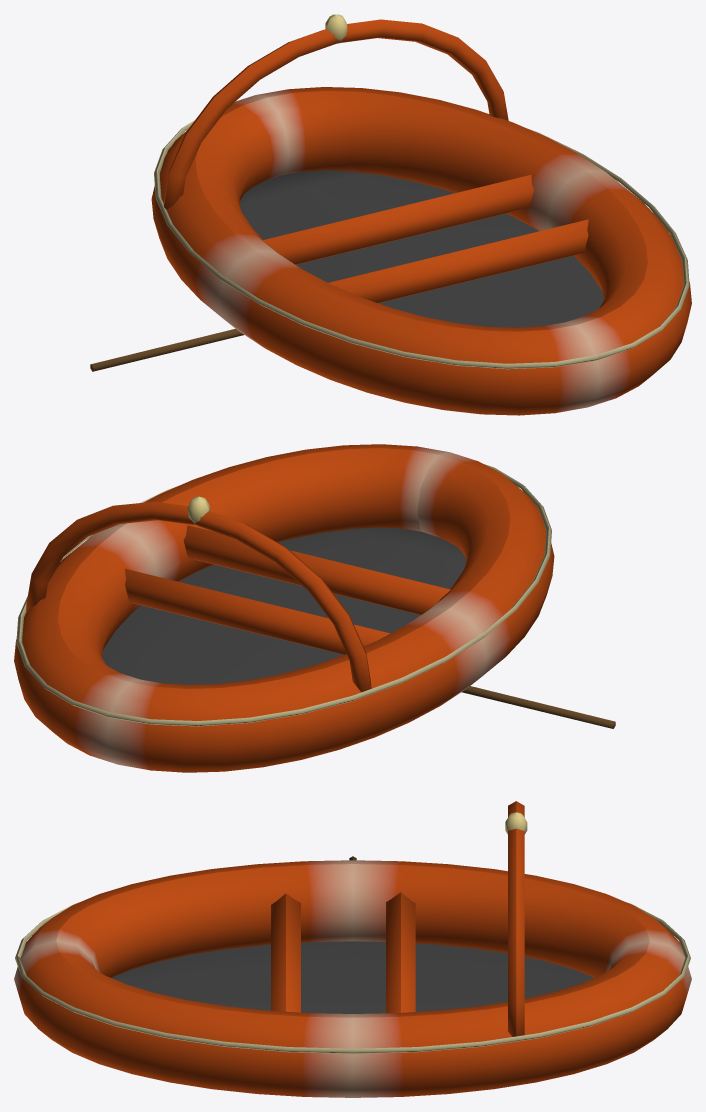
The model's file is raft.glb.
The picture shows the model from 3 angles, top to bottom: view 1: azimuth 30°, elevation 25°; view 2: azimuth 150°, elevation 25°; view 3: azimuth 270°, elevation 25°; orthographic projection. The views are drawn at different scales.
Parts seen in each view (by area): view 1: raft, raft_oar; view 2: raft, raft_oar; view 3: raft.
Part boxes in pixels (x1,y1,x2,y2): raft: (151,14,691,415); raft_oar: (90,328,243,371); raft: (14,444,554,772); raft_oar: (462,686,615,728); raft: (14,801,691,1097).
Bounding box in the file's own units: 3.47 × 1.18 × 3.54.
